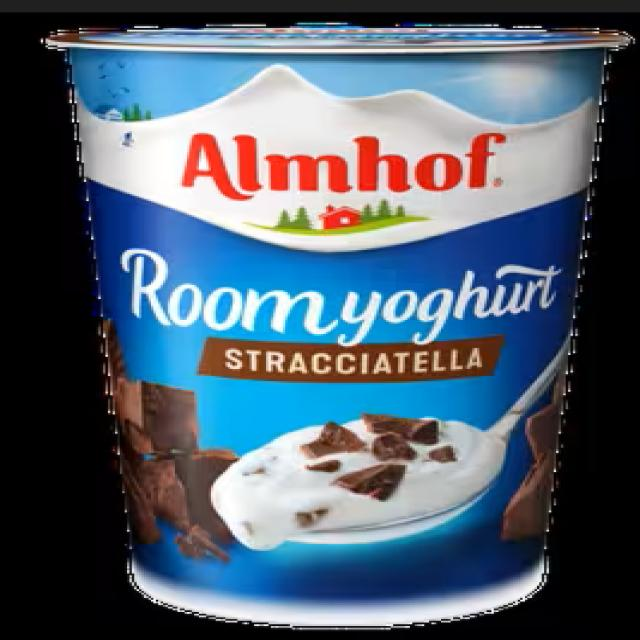yoghurt: (38, 20, 640, 628)
